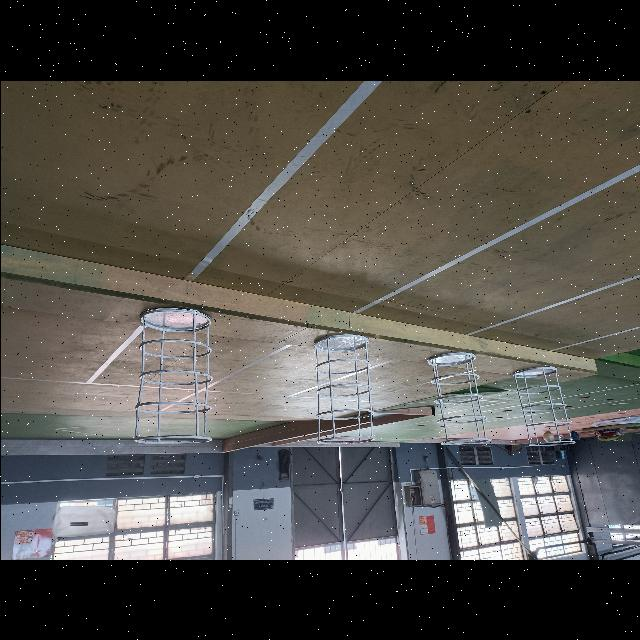S: (132, 307, 213, 446), (310, 334, 376, 447), (425, 351, 492, 446), (509, 365, 576, 447)
